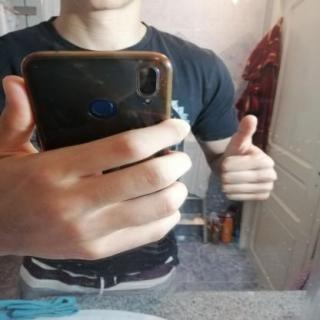ALIF: (203, 108, 284, 205)
